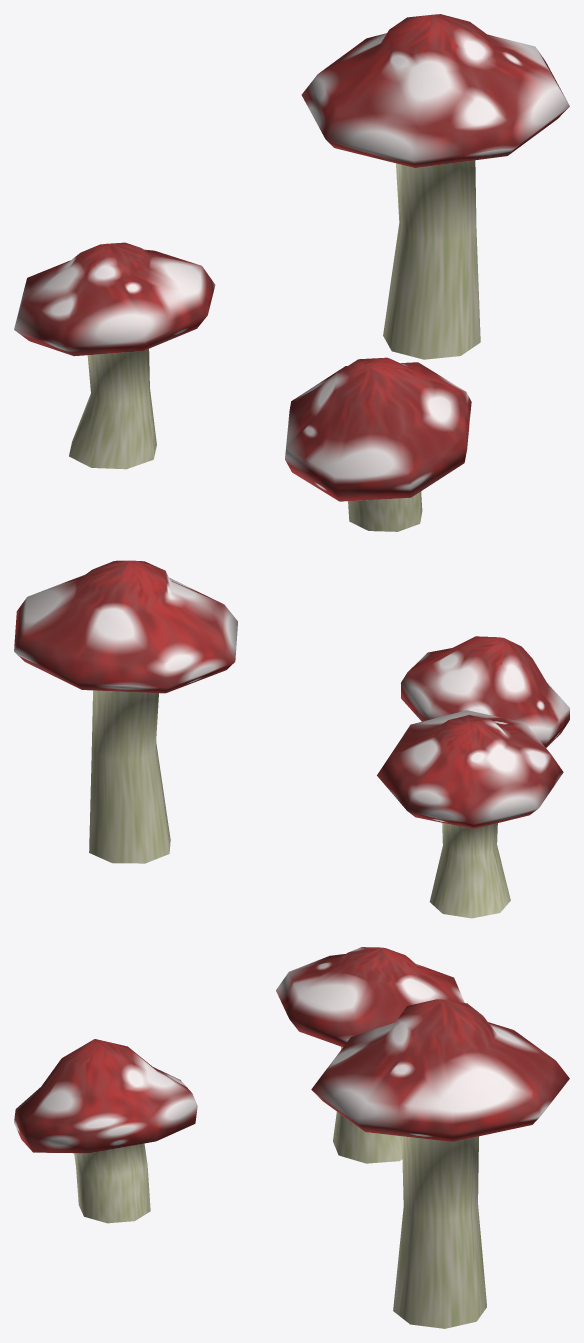
File: cave_shrooms_floor3.glb
3 renders of one model, top to bottom at view 1: azimuth 30°, elevation 25°; view 2: azimuth 150°, elevation 25°; view 3: azimuth 270°, elevation 25°, orthographic. The views are drawn at different scales.
Parts seen in each view (by area): view 1: floor_shroom3-col; view 2: floor_shroom3-col; view 3: floor_shroom3-col.
Boxes of the visible parts, x1,y1,x2,y2 form: floor_shroom3-col: (14, 14, 569, 531); floor_shroom3-col: (14, 560, 569, 918); floor_shroom3-col: (14, 947, 569, 1328).
Bounding box in the file's own units: 1.86 × 1.03 × 1.66.
Materials: 1 (1 with a texture image).
